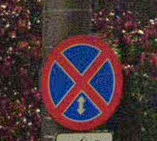oprirea_interzisa: (42, 32, 125, 130)
